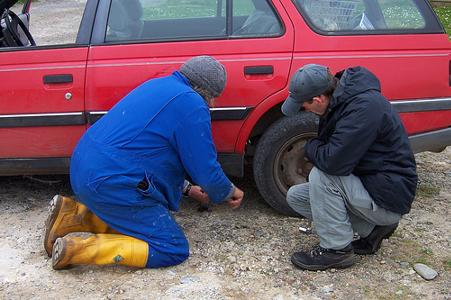person: (280, 63, 419, 272)
